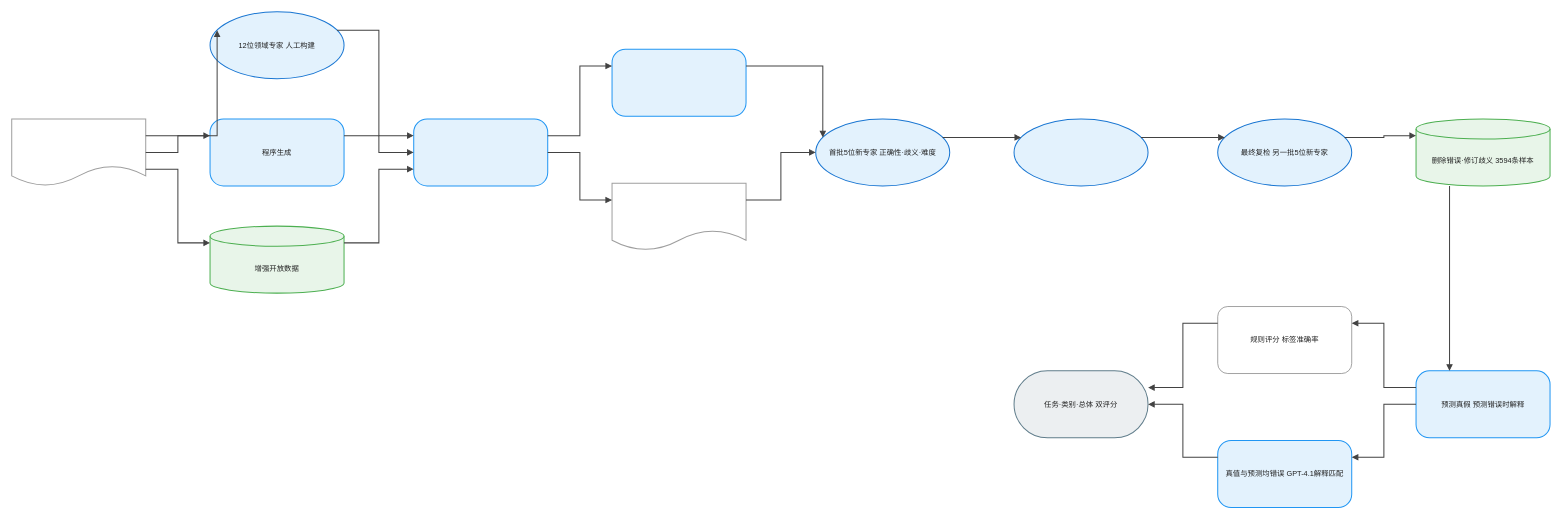
Image size: 1562x520. Some labels were removed from this diagram. The centre of each missing label's shape, as x and y in pixels:
6类能力 16项任务: the point at 78,152
人类评估 10位专家分5加5: the point at 1080,152
初始数据集 视觉真假陈述: the point at 480,152
真假1比1 平衡: the point at 678,82
错误样例 真值解释: the point at 678,216
